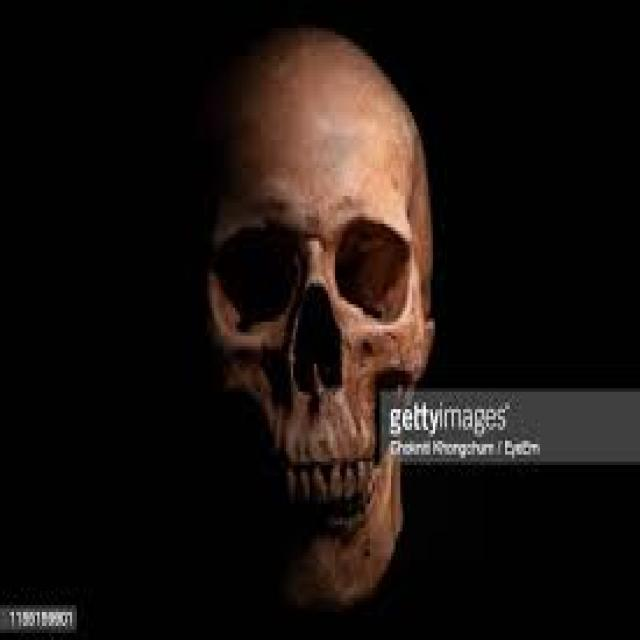skull: (172, 30, 448, 620)
